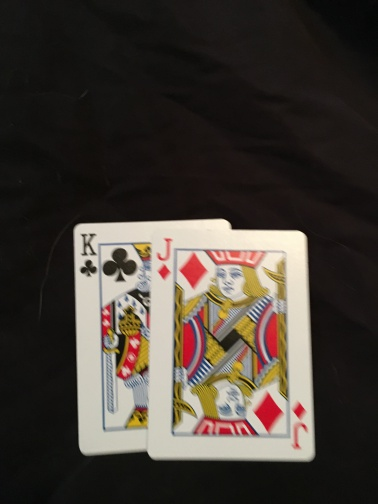jack: (149, 227, 317, 462)
king: (73, 221, 150, 453)
